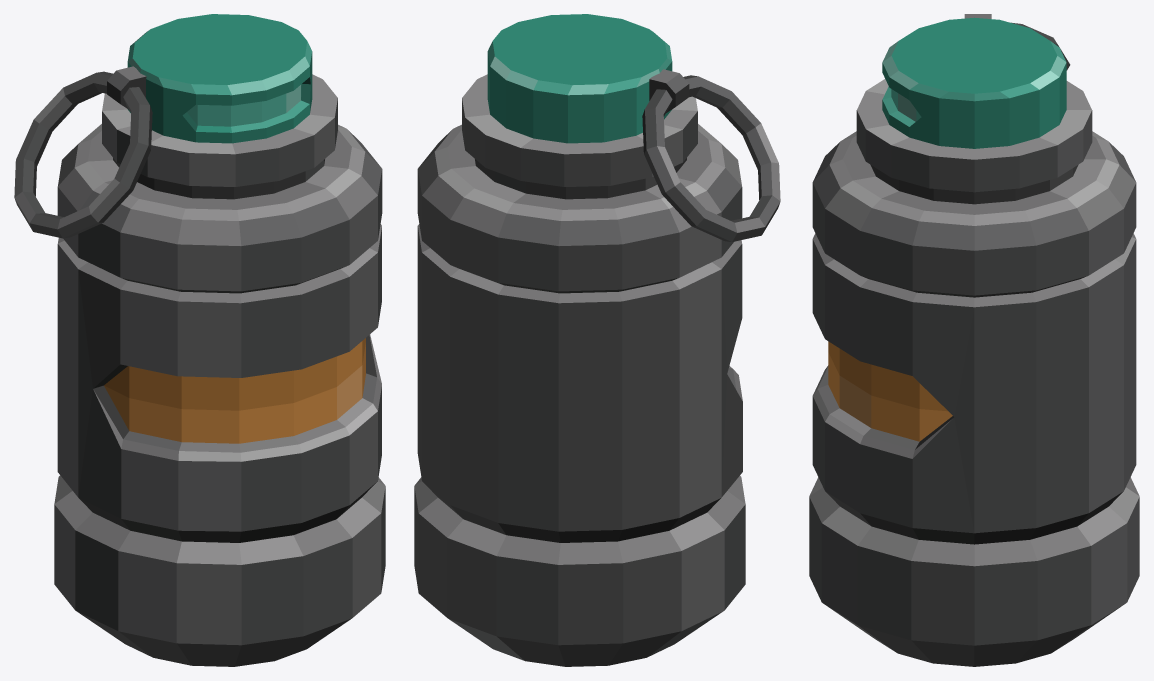
File: Cosmic_Retro_Grenades_Pack_8.fbx
3 views of the same model, side by side, from view 1: azimuth 30°, elevation 25°; view 2: azimuth 150°, elevation 25°; view 3: azimuth 270°, elevation 25° (orthographic).
Visible parts, largest first — view 1: Cosmic_Retro_Grenades_Pack_8; view 2: Cosmic_Retro_Grenades_Pack_8; view 3: Cosmic_Retro_Grenades_Pack_8.
Boxes of the visible parts, bbox=[...] form: Cosmic_Retro_Grenades_Pack_8: bbox=[14, 14, 385, 666]; Cosmic_Retro_Grenades_Pack_8: bbox=[414, 14, 780, 666]; Cosmic_Retro_Grenades_Pack_8: bbox=[809, 14, 1139, 666].
Bounding box in the file's own units: 0.1536 × 0.2522 × 0.1336.
